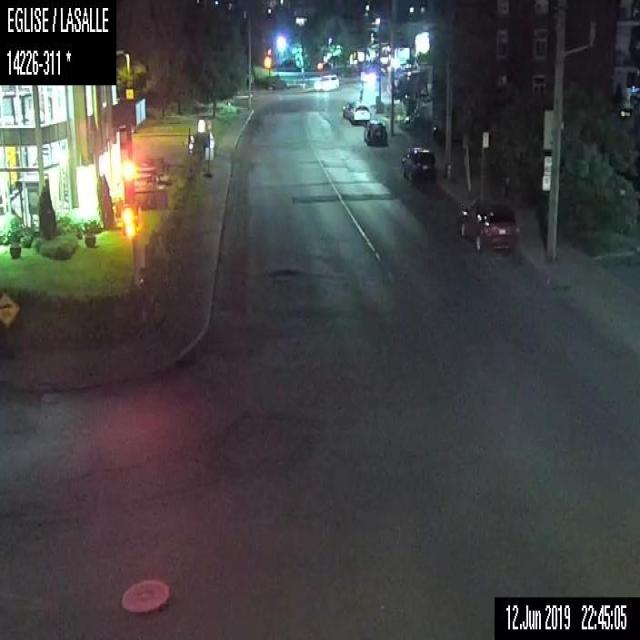vehicle: (457, 197, 520, 255), (399, 145, 437, 183), (363, 120, 386, 146), (313, 71, 339, 91), (348, 101, 370, 123), (341, 99, 354, 120)
